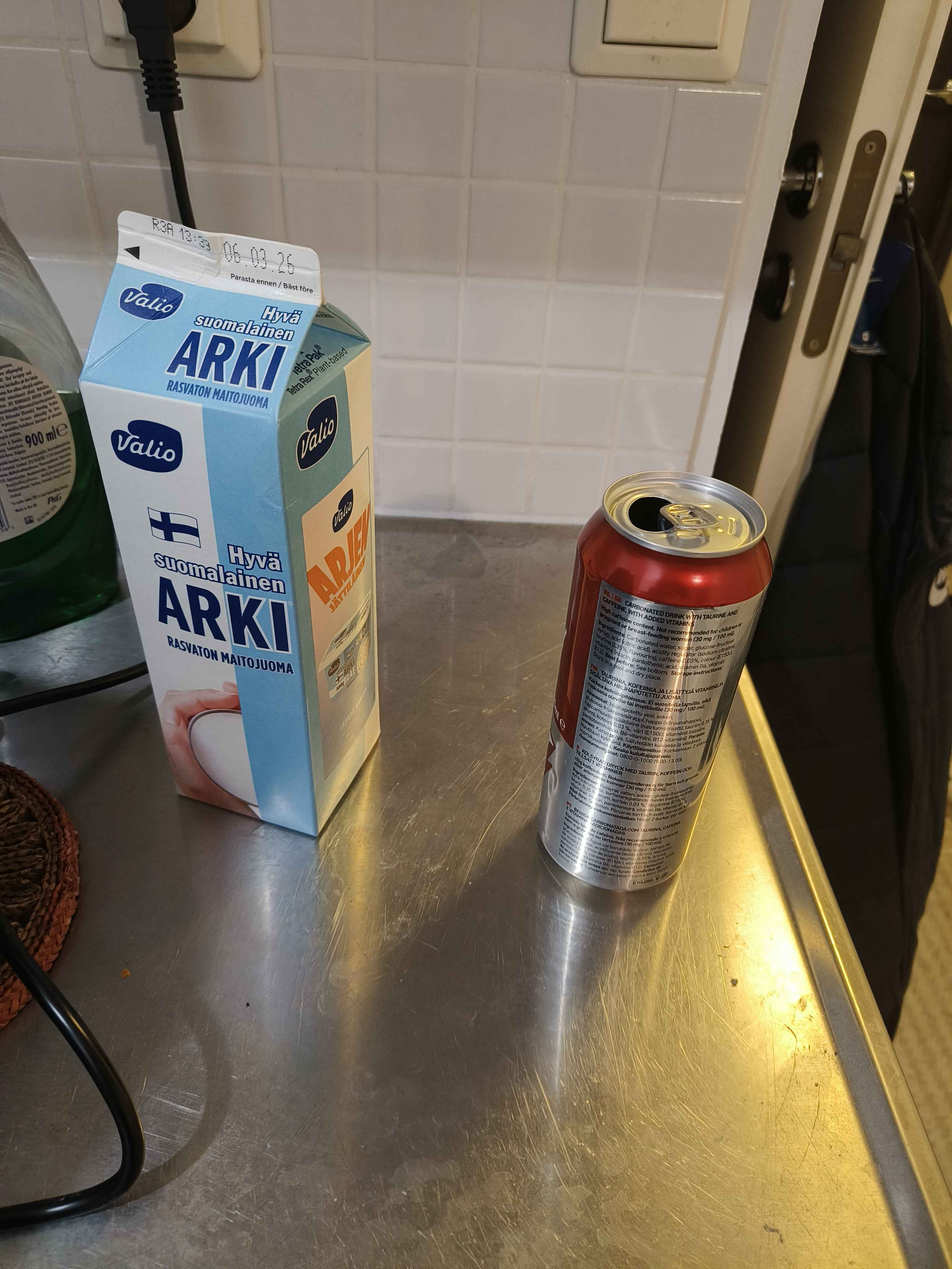Dryckeskartong: (77, 211, 383, 838)
Pantburk: (537, 466, 774, 893)
